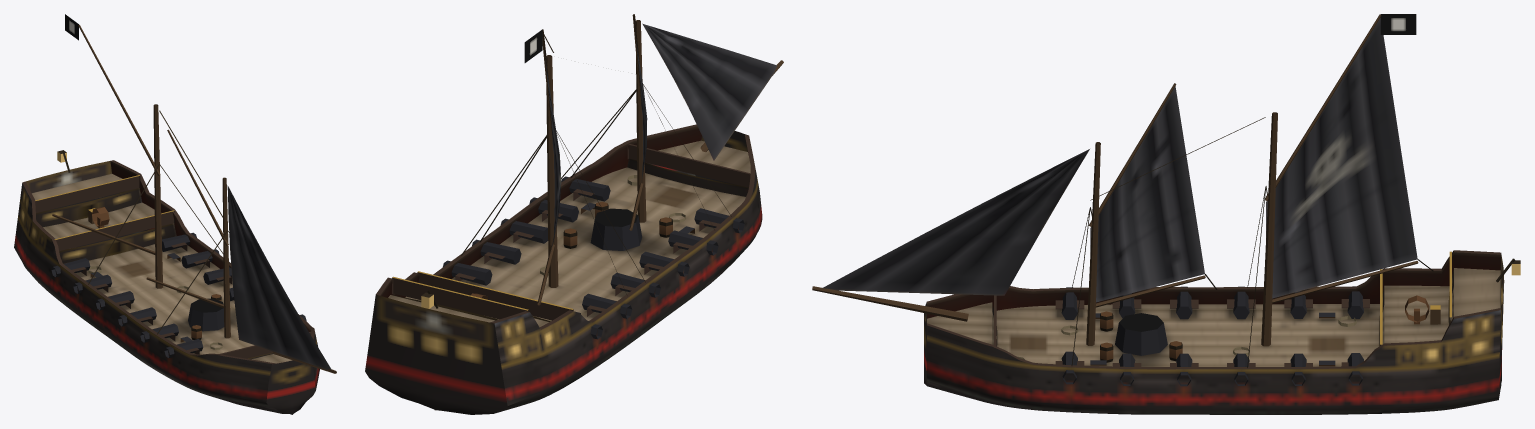
File: npc_pirate_gunboat.36e700c2.glb
The picture shows the model from 3 angles, left to right: view 1: azimuth 30°, elevation 25°; view 2: azimuth 150°, elevation 25°; view 3: azimuth 270°, elevation 25°; orthographic projection. The views are drawn at different scales.
Parts seen in each view (by area): view 1: npc_pirate_gunboat_lod0; view 2: npc_pirate_gunboat_lod0; view 3: npc_pirate_gunboat_lod0.
Part boxes in pixels (bbox=[...]): npc_pirate_gunboat_lod0: bbox=[14, 14, 336, 414]; npc_pirate_gunboat_lod0: bbox=[365, 14, 783, 414]; npc_pirate_gunboat_lod0: bbox=[812, 14, 1520, 414].
Size of what is drawn, in the model's own units: 10.28 by 19.37 by 34.7.
Materials: 1 (1 with a texture image).
